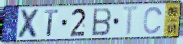2: (70, 8, 87, 38)
B: (91, 7, 113, 37)
C: (142, 6, 164, 36)
T: (121, 5, 141, 37), (44, 9, 60, 38)
X: (17, 8, 41, 39)
